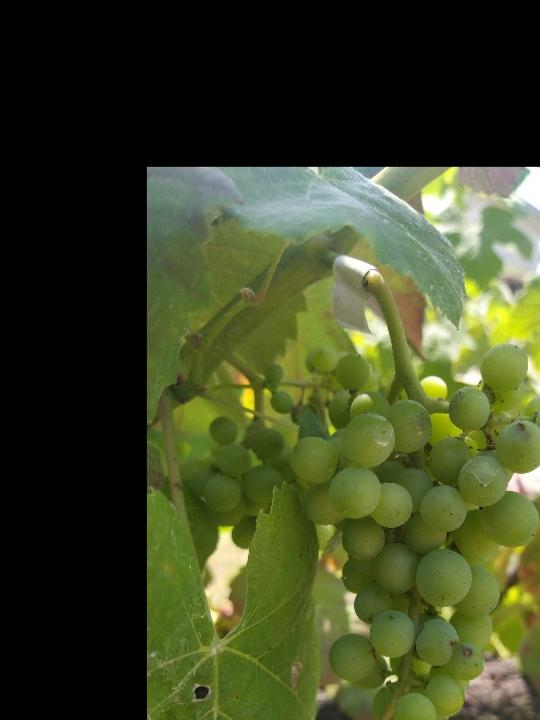grape: (290, 339, 540, 720)
